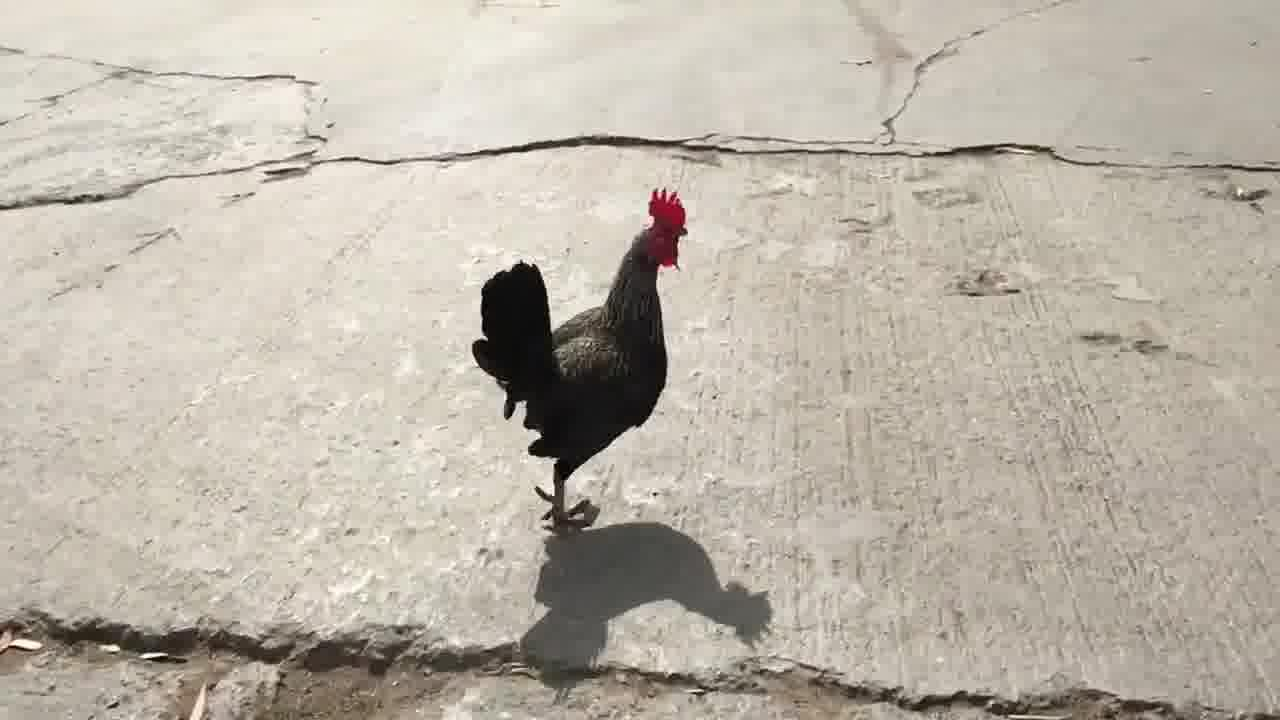Normal: (484, 196, 720, 530)
